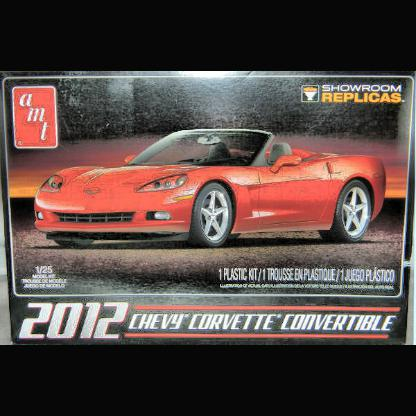Chevrolet Corvette Convertible 2012: (33, 124, 390, 255)
